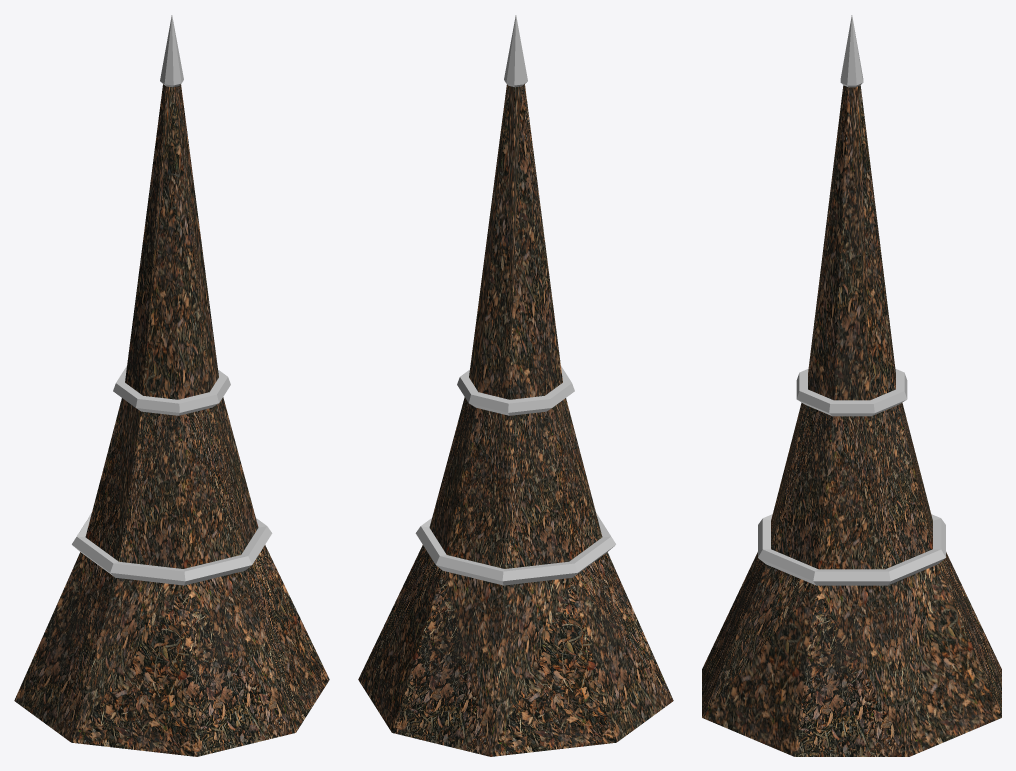
The model's file is SM_RoofSpire-1.fbx.
3 views of the same model, side by side, from view 1: azimuth 30°, elevation 25°; view 2: azimuth 150°, elevation 25°; view 3: azimuth 270°, elevation 25° (orthographic).
Visible parts, largest first — view 1: SM_RoofSpire-1_LOD0; view 2: SM_RoofSpire-1_LOD0; view 3: SM_RoofSpire-1_LOD0.
Part boxes in pixels (<box>): SM_RoofSpire-1_LOD0: <box>14,15,329,756</box>; SM_RoofSpire-1_LOD0: <box>358,15,673,756</box>; SM_RoofSpire-1_LOD0: <box>702,15,1001,756</box>.
Bounding box in the file's own units: 400 × 400 × 1000.
